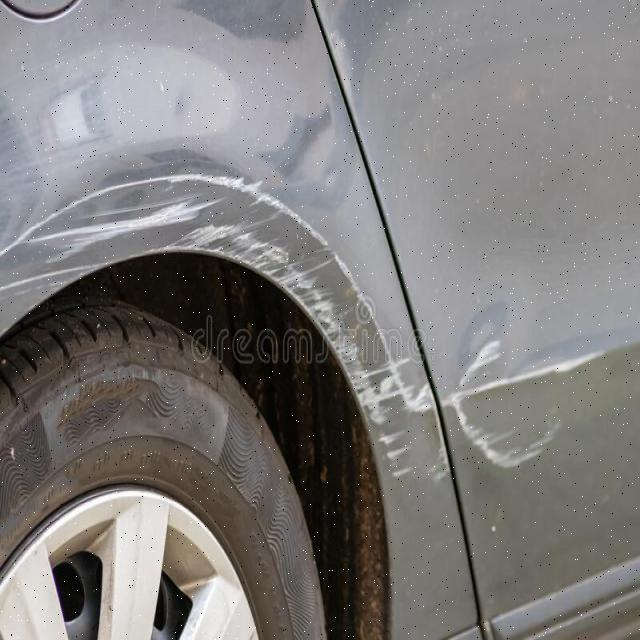fender-dent: (0, 0, 319, 521), (90, 178, 448, 639)
